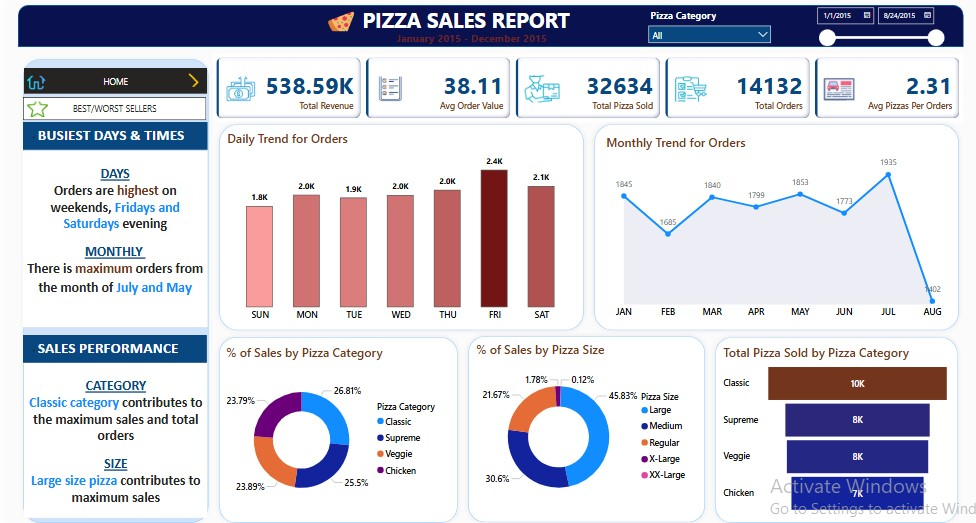

What the dashboard file says about the page in this screenshot:
{"tool":"powerbi","page":{"name":"HOME","canvas":[1500,820],"ordinal":0},"visuals":[{"type":"cardVisual","fields":{"Data":["public pizza_sales.Total Revenue","public pizza_sales.Avg Order Value","public pizza_sales.Total Pizza Sold","public pizza_sales.Total Orders","public pizza_sales.Avg Pizzas Per Orders"]},"box":[320,86,1162.9,105.7],"z":0},{"type":"shape","box":[17.1,10,1465.7,65],"z":1000},{"type":"textbox","box":[545.7,5,407.1,78.6],"z":2000},{"type":"image","box":[482,14,71.4,41],"z":3000},{"type":"textbox","box":[598.6,44.3,302.9,40],"z":4000},{"type":"shape","box":[320.2,185.9,581.4,335.7],"z":5000},{"type":"columnChart","title":"Daily Trend for Orders","fields":{"Category":["public pizza_sales.Order Day"],"Y":["public pizza_sales.Total Orders"]},"box":[335.9,203,548.6,305.7],"z":6000},{"type":"shape","box":[901.7,185.9,581.4,335.7],"z":7000},{"type":"areaChart","title":"Monthly Trend for Orders","fields":{"Category":["public pizza_sales.Order Month"],"Y":["public pizza_sales.Total Orders"]},"box":[923.1,208.8,542.9,294.3],"z":8000},{"type":"shape","box":[320.4,516.3,385.7,304.1],"z":9000},{"type":"shape","box":[706.2,515.4,383.1,304.6],"z":10000},{"type":"shape","box":[1089.8,516.3,391.8,304.1],"z":11000},{"type":"donutChart","title":"% of Sales by Pizza Category","fields":{"Category":["public pizza_sales.pizza_category"],"Y":["public pizza_sales.Total Revenue"]},"box":[335.4,535.4,355.4,272.3],"z":12000},{"type":"donutChart","title":"% of Sales by Pizza Size","fields":{"Category":["public pizza_sales.pizza_size"],"Y":["public pizza_sales.Total Revenue"]},"box":[723.1,530.8,346.2,272.3],"z":13000},{"type":"funnel","title":"Total Pizza Sold by Pizza Category","fields":{"Category":["public pizza_sales.pizza_category"],"Y":["public pizza_sales.Total Pizza Sold"]},"box":[1104.6,535.4,361.5,267.7],"z":14000},{"type":"shape","box":[16.7,85.6,303.3,734.4],"z":15000},{"type":"textbox","box":[25.6,191.1,285.6,43.3],"z":16000},{"type":"textbox","box":[25.6,235.6,285.6,273.3],"z":17000},{"type":"textbox","box":[25.5,521.3,285.1,42.6],"z":18000},{"type":"textbox","box":[25.7,564.3,284.3,240],"z":19000},{"type":"slicer","fields":{"Values":["public pizza_sales.pizza_category"]},"box":[984.6,9.6,209.6,65.4],"z":20000},{"type":"slicer","fields":{"Values":["public pizza_sales.order_date"]},"box":[1243.6,2.6,217.9,78.2],"z":21000},{"type":"pageNavigator","box":[26.2,107.7,284.6,40],"z":22000},{"type":"pageNavigator","box":[24.6,152.3,284.6,36.9],"z":23000},{"type":"image","box":[267.7,110.8,41.5,30.8],"z":23001},{"type":"image","box":[26.2,110.8,38.5,38.5],"z":23002},{"type":"image","box":[26.2,152.3,41.5,38.5],"z":23003}]}

Visuals, with their boxes on the page's 1500x820 design canvas (x1, y1, x2, y2). These are canvas units, not pixel positions in the 976x523 screenshot, which may show the page scaled, cropped or inside an application window:
cardVisual - public pizza_sales.Total Revenue x public pizza_sales.Avg Order Value: (320,86,1483,192)
shape: (17,10,1483,75)
textbox: (546,5,953,84)
image: (482,14,553,55)
textbox: (599,44,902,84)
shape: (320,186,902,522)
"Daily Trend for Orders" columnChart: (336,203,884,509)
shape: (902,186,1483,522)
"Monthly Trend for Orders" areaChart: (923,209,1466,503)
shape: (320,516,706,820)
shape: (706,515,1089,820)
shape: (1090,516,1482,820)
"% of Sales by Pizza Category" donutChart: (335,535,691,808)
"% of Sales by Pizza Size" donutChart: (723,531,1069,803)
"Total Pizza Sold by Pizza Category" funnel: (1105,535,1466,803)
shape: (17,86,320,820)
textbox: (26,191,311,234)
textbox: (26,236,311,509)
textbox: (26,521,311,564)
textbox: (26,564,310,804)
slicer - public pizza_sales.pizza_category: (985,10,1194,75)
slicer - public pizza_sales.order_date: (1244,3,1462,81)
pageNavigator: (26,108,311,148)
pageNavigator: (25,152,309,189)
image: (268,111,309,142)
image: (26,111,65,149)
image: (26,152,68,191)
